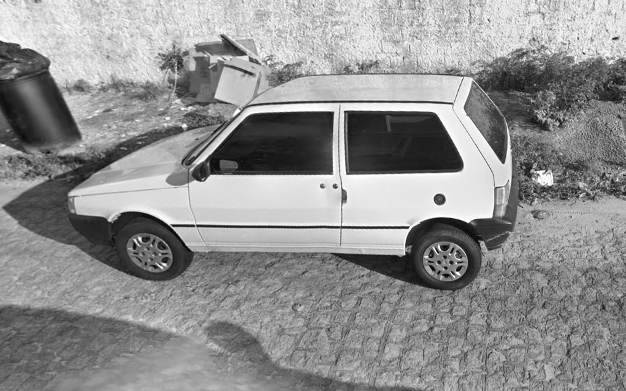car: (67, 72, 521, 292)
